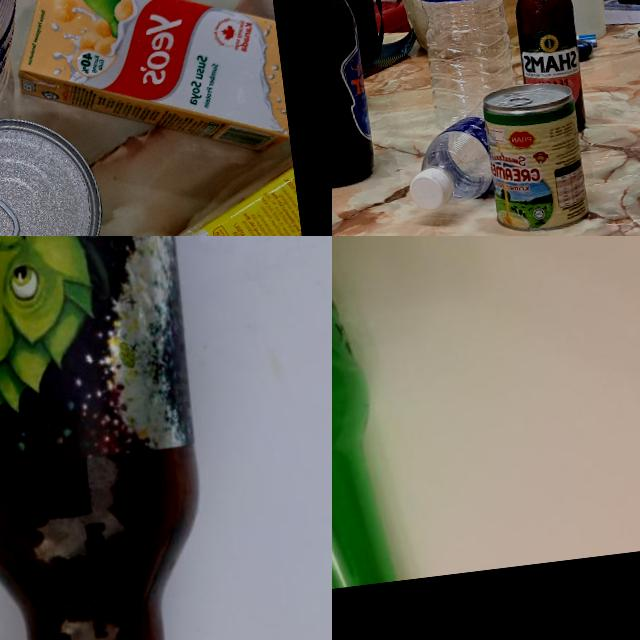aba de lata: (495, 94, 533, 108)
caixinha: (6, 0, 290, 173), (128, 147, 312, 236)
garrafa de vidro: (0, 236, 223, 640), (332, 236, 399, 612), (502, 0, 587, 137), (332, 0, 375, 192)
garrafa plástica: (404, 0, 521, 132), (412, 100, 494, 204)
lata: (480, 78, 590, 235), (0, 113, 111, 236)
tampa plástica: (406, 165, 454, 212)
